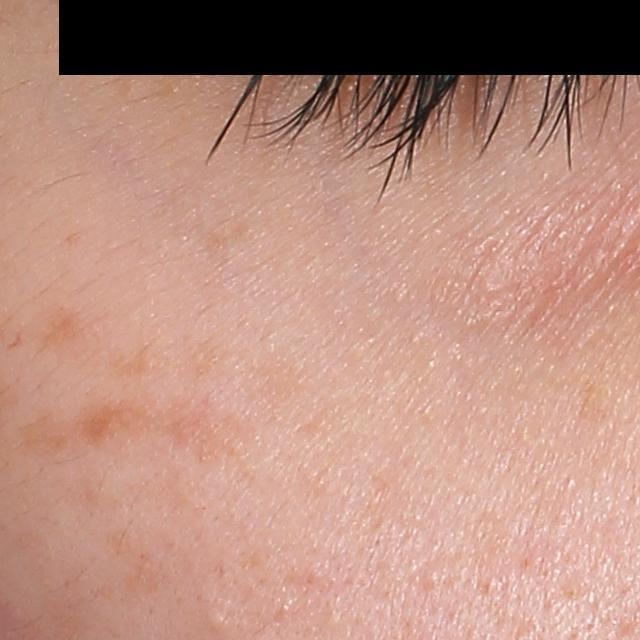comedo: (204, 607, 232, 636)
melasma: (162, 390, 269, 477), (74, 392, 162, 449), (28, 304, 88, 357), (108, 336, 162, 381), (200, 213, 256, 253)
